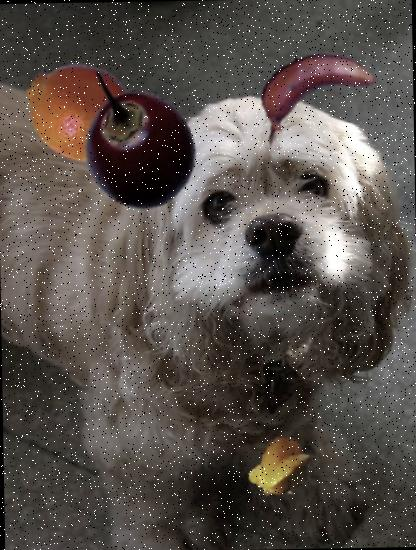Banana: (248, 26, 377, 155)
Carambula: (246, 433, 317, 504)
Tamarillo: (68, 82, 200, 214)
Tangelo: (21, 54, 135, 168)
